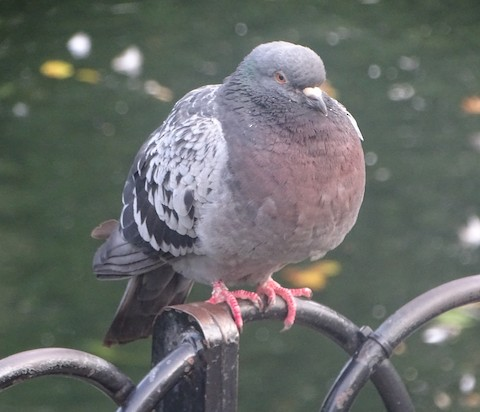pigeon: (90, 34, 371, 356)
